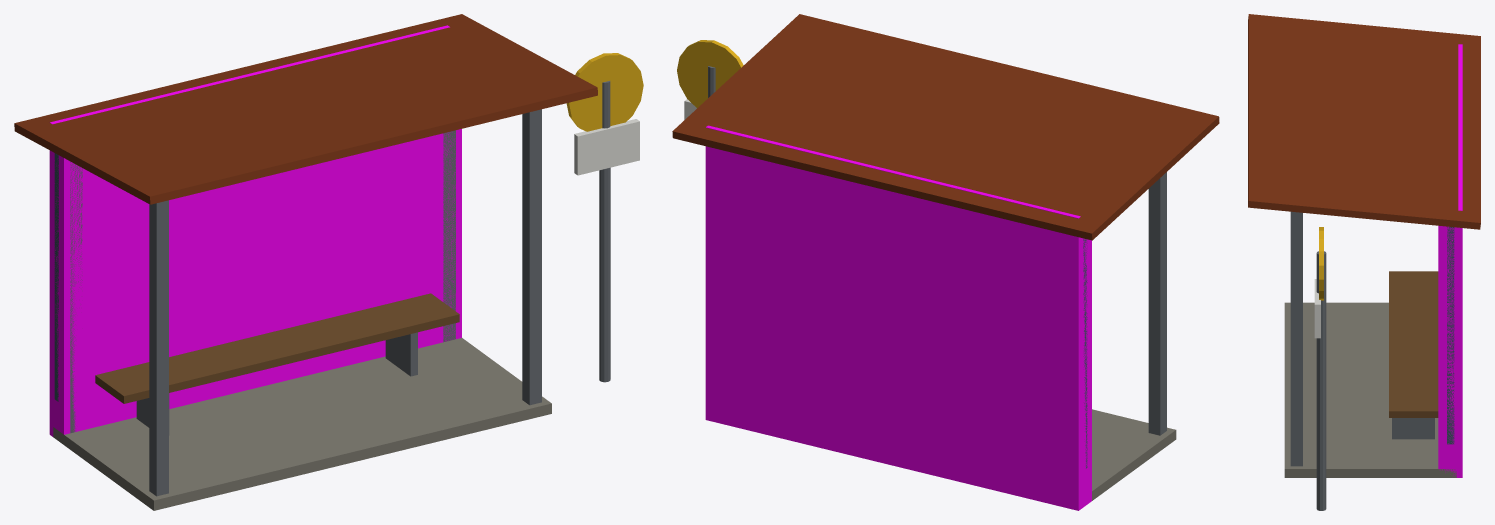
Rendered from BusStop.fbx.
3 views of the same model, side by side, from view 1: azimuth 30°, elevation 25°; view 2: azimuth 150°, elevation 25°; view 3: azimuth 270°, elevation 25° (orthographic). The views are drawn at different scales.
Parts seen in each view (by area): view 1: BusStop, COL_BusStop_0; view 2: COL_BusStop_0, BusStop; view 3: BusStop, COL_BusStop_0.
Part boxes in pixels (bbox=[...]): BusStop: bbox=[14, 14, 643, 510]; COL_BusStop_0: bbox=[49, 25, 461, 436]; COL_BusStop_0: bbox=[705, 125, 1091, 510]; BusStop: bbox=[672, 14, 1219, 500]; BusStop: bbox=[1248, 14, 1480, 510]; COL_BusStop_0: bbox=[1438, 44, 1462, 477].
Bounding box in the file's own units: 4.3 × 2.58 × 1.9.
